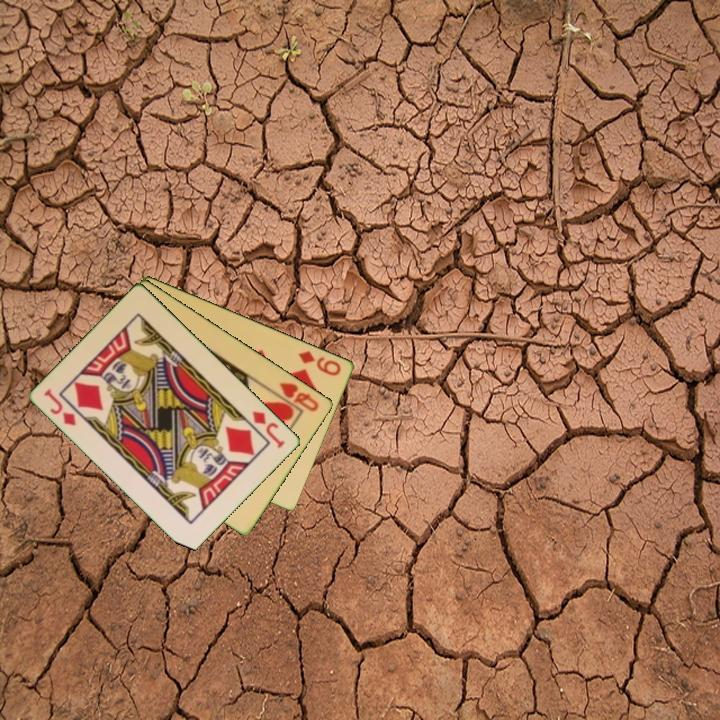9d: (295, 347, 344, 379)
Jd: (249, 407, 288, 451), (41, 385, 80, 429)
Qh: (276, 379, 322, 414)
